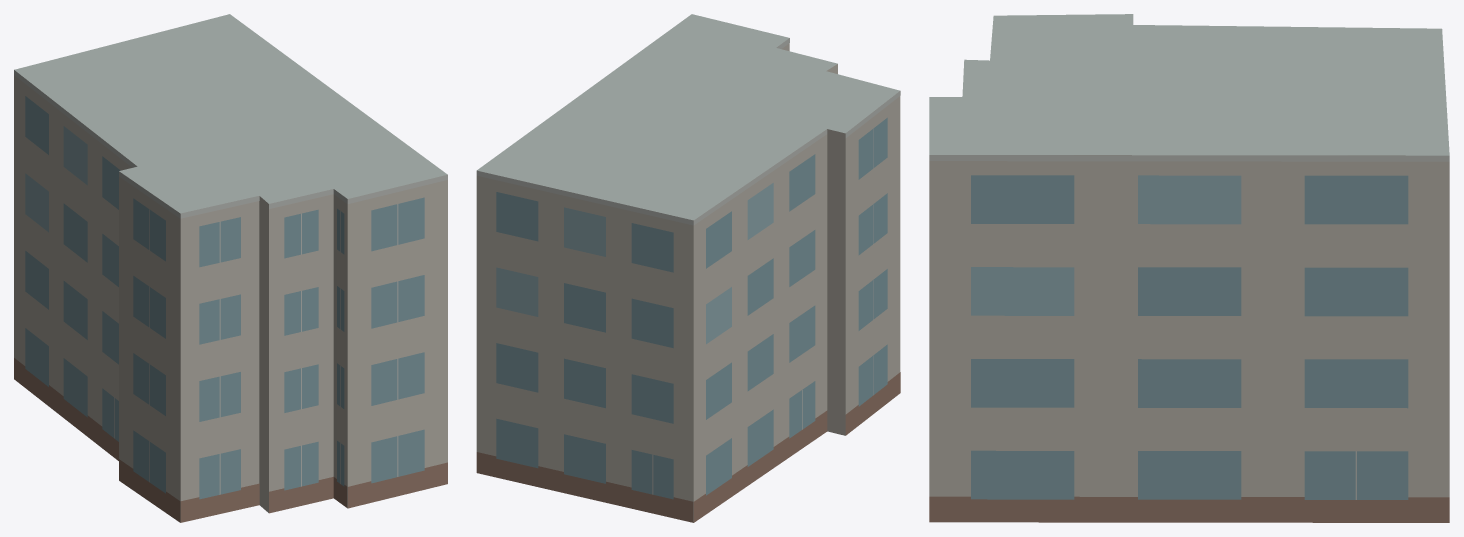
The model's file is survey-upis-32771896.glb.
The picture shows the model from 3 angles, left to right: view 1: azimuth 30°, elevation 25°; view 2: azimuth 150°, elevation 25°; view 3: azimuth 270°, elevation 25°; orthographic projection. The views are drawn at different scales.
Visible parts, largest first — view 1: survey-upis-32771896.tmp; view 2: survey-upis-32771896.tmp; view 3: survey-upis-32771896.tmp.
Part boxes in pixels (bbox=[...]): survey-upis-32771896.tmp: bbox=[14, 14, 447, 522]; survey-upis-32771896.tmp: bbox=[476, 14, 900, 522]; survey-upis-32771896.tmp: bbox=[929, 14, 1449, 522].
Size of the model in its own units: 11.99 by 14.5 by 18.63.
